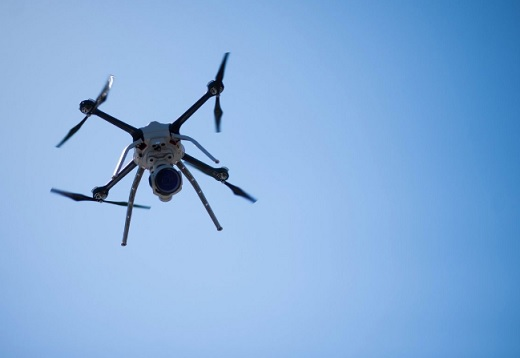drone: (50, 50, 260, 251)
